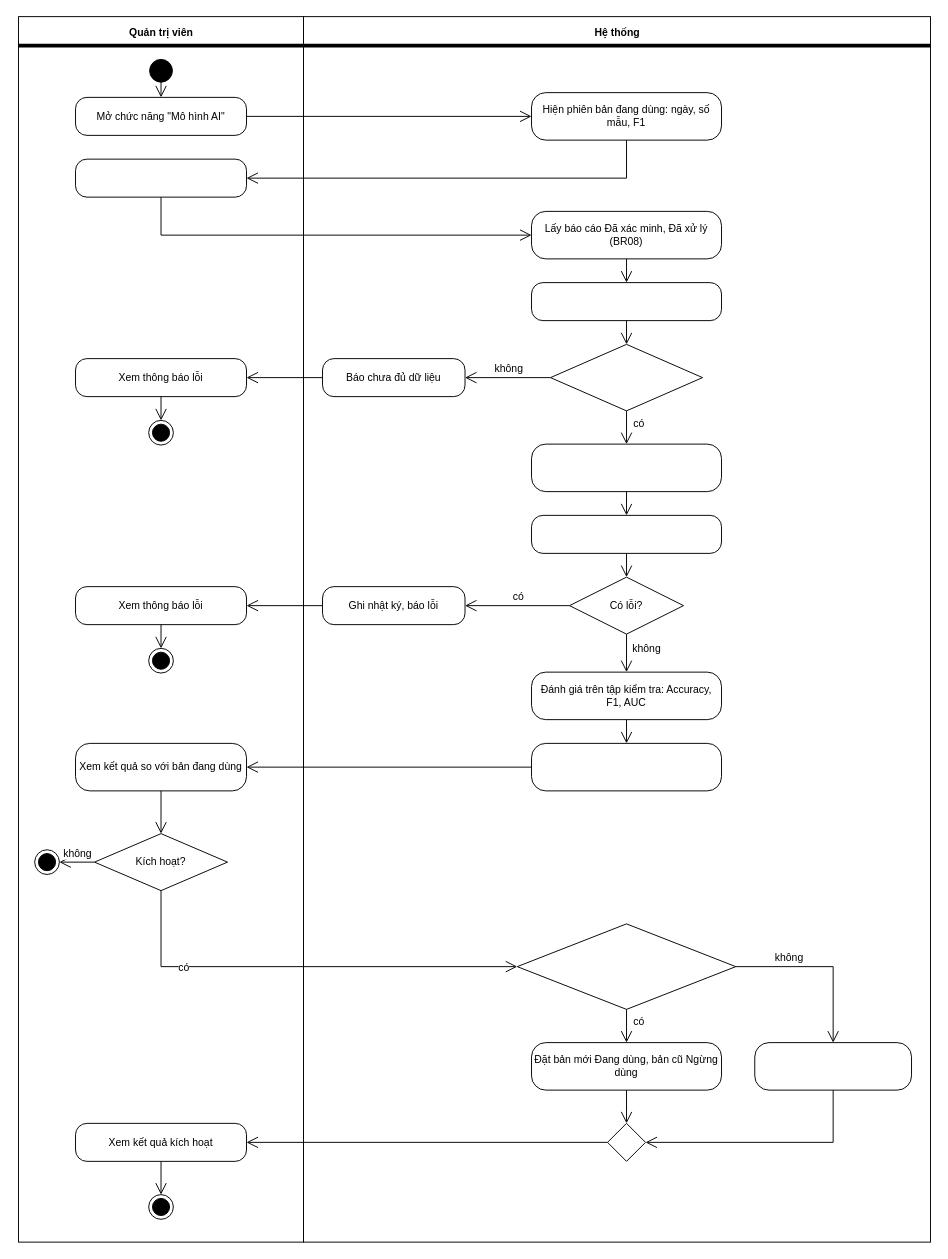
Some shapes in this 948 by 1259 pixel diagram are drawn without their labels. The centre of each missing label's shape, as x and y in pixels:
Chia theo thời gian: 80% huấn luyện, 20% kiểm tra: point 626,467
F1 không thấp hơn bản đang dùng?: point 626,966
Huấn luyện bằng Smile (GradientTreeBoost): point 626,533
Lưu file .model và dòng MoHinhAI (chưa dùng): point 626,766
Nhấn "Huấn luyện lại": point 161,177
Tạo bảng mẫu: đặc trưng và nhãn: point 626,301
Từ chối kích hoạt, giữ bản cũ: point 833,1066
Đủ hai loại nhãn?: point 626,377
